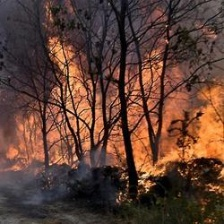fire: (12, 33, 224, 187)
